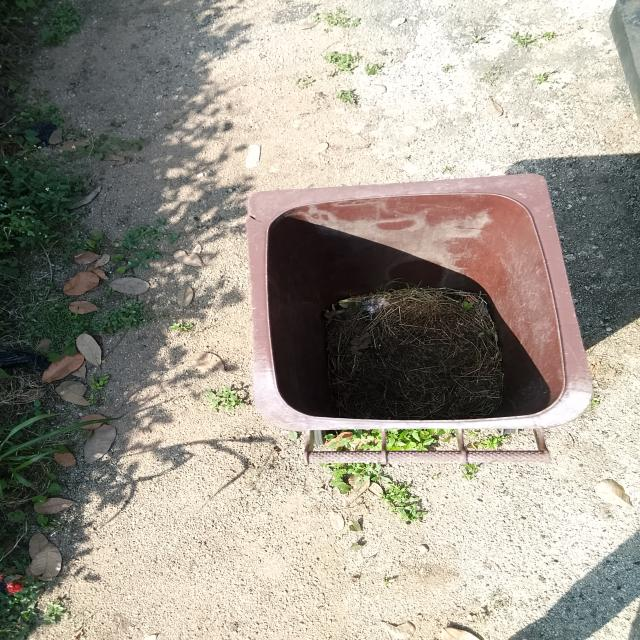empty: (247, 188, 568, 432)
